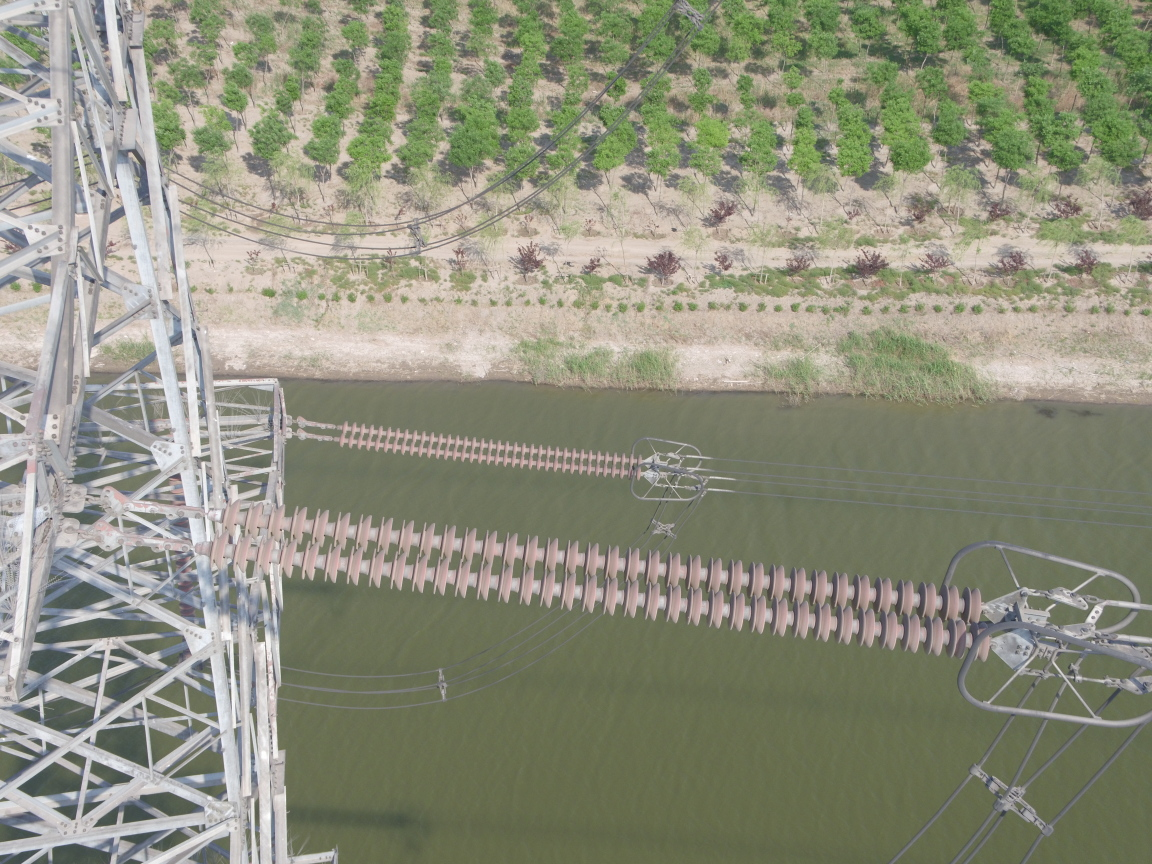insulator: (169, 496, 1012, 663), (321, 417, 651, 481)
